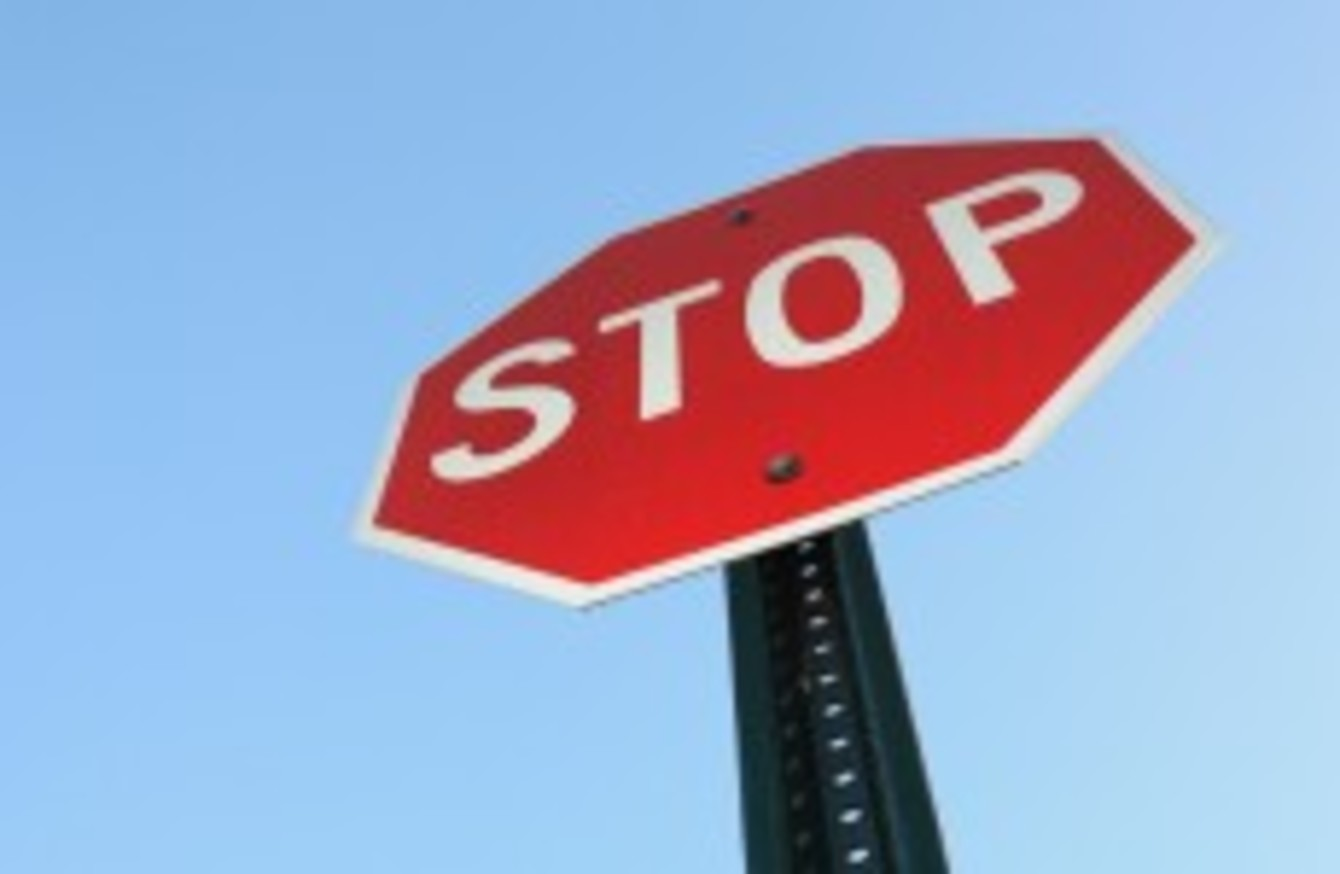stop: (344, 118, 1226, 608), (355, 123, 1222, 538), (349, 118, 1227, 474), (410, 139, 1099, 565)
